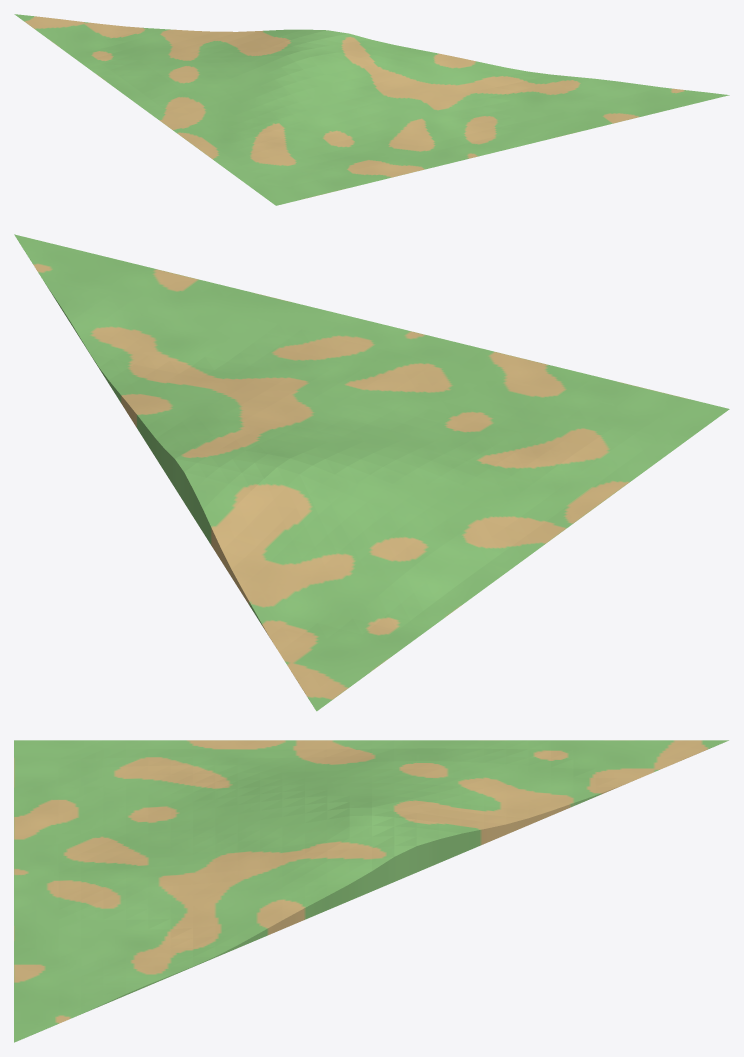
The model's file is Grass_Flat_03_NW.obj.
3 renders of one model, top to bottom at view 1: azimuth 30°, elevation 25°; view 2: azimuth 150°, elevation 25°; view 3: azimuth 270°, elevation 25°, orthographic. The views are drawn at different scales.
Size of the model in its own units: 10 by 0.441 by 10.
Materials: 1 (1 with a texture image).
